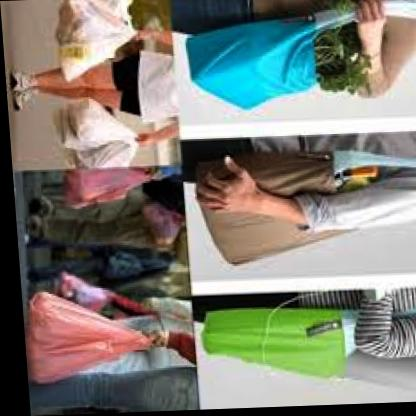Plastic: (23, 278, 164, 384), (54, 0, 144, 84), (49, 94, 150, 166), (61, 166, 154, 210)
